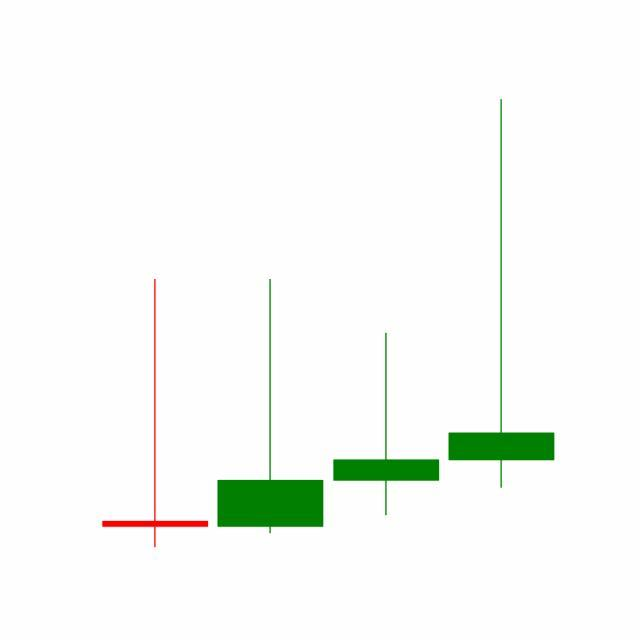Gravestone Doji: (444, 95, 560, 493)
